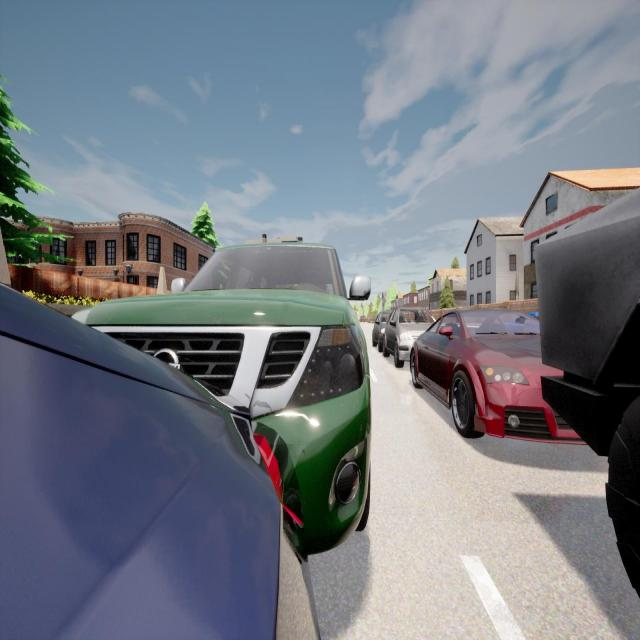Vehicle: (0, 280, 321, 640), (74, 245, 371, 554), (534, 188, 640, 598), (411, 308, 591, 443), (383, 307, 437, 368), (372, 310, 392, 352), (360, 314, 367, 324)
